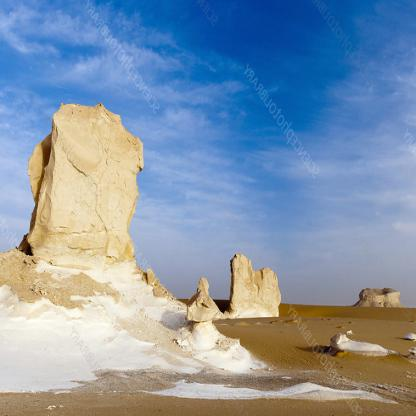Sedimentary_Chalk: (23, 125, 127, 250)
